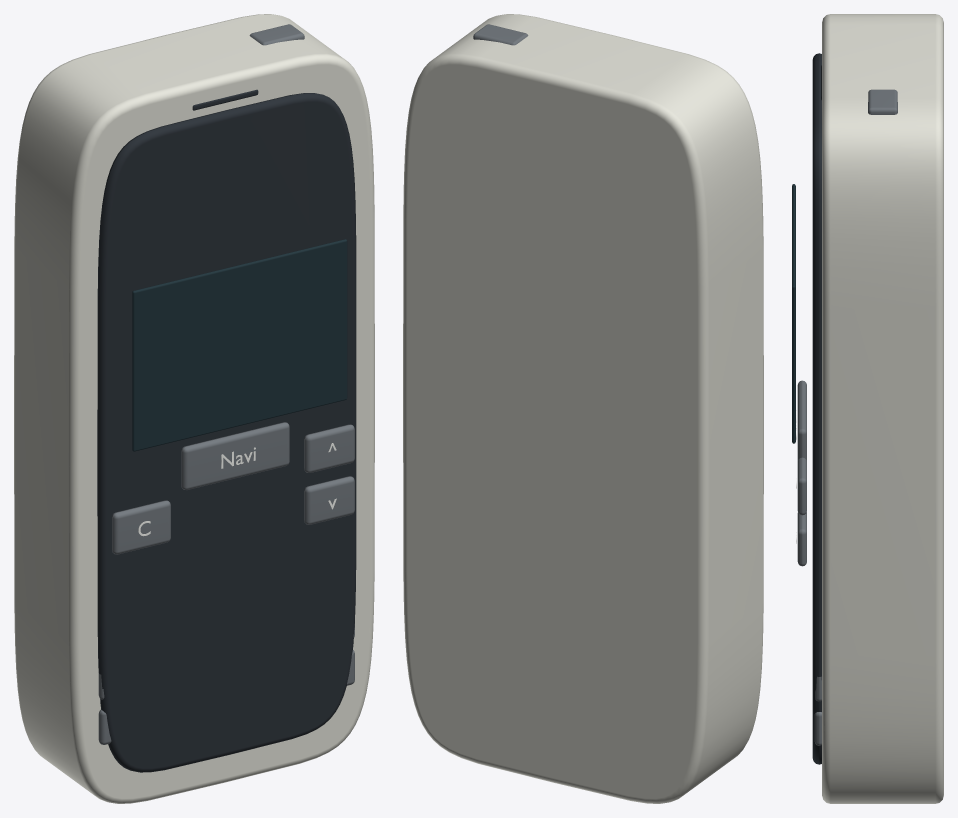
File: nokia1100-collection.glb
3 views of the same model, side by side, from view 1: azimuth 30°, elevation 25°; view 2: azimuth 150°, elevation 25°; view 3: azimuth 270°, elevation 25° (orthographic).
Parts seen in each view (by area): view 1: Dark_front_insert, Rounded_removable_cover, Display_glass, Key_ok, Key_clear, Key_dir:up, Key_dir:down, Power; view 2: Rounded_removable_cover, Power; view 3: Rounded_removable_cover, Dark_front_insert, Display_glass, Key_ok, Power, Key_dir:up, Key_dir:down.
Boxes of the visible parts, bbox=[...] form: Dark_front_insert: bbox=[97, 93, 356, 772]; Rounded_removable_cover: bbox=[14, 14, 374, 803]; Display_glass: bbox=[132, 239, 347, 451]; Key_ok: bbox=[181, 422, 289, 489]; Key_clear: bbox=[112, 500, 170, 554]; Key_dir:up: bbox=[304, 424, 354, 472]; Key_dir:down: bbox=[304, 476, 354, 524]; Power: bbox=[249, 24, 304, 45]; Rounded_removable_cover: bbox=[403, 14, 763, 803]; Power: bbox=[473, 24, 528, 45]; Rounded_removable_cover: bbox=[822, 14, 943, 803]; Dark_front_insert: bbox=[812, 53, 821, 764]; Display_glass: bbox=[792, 184, 795, 443]; Key_ok: bbox=[797, 380, 806, 461]; Power: bbox=[868, 89, 897, 114]; Key_dir:up: bbox=[797, 457, 806, 515]; Key_dir:down: bbox=[797, 512, 806, 566].
Size of the model in its own units: 1.85 by 4.11 by 0.81.
